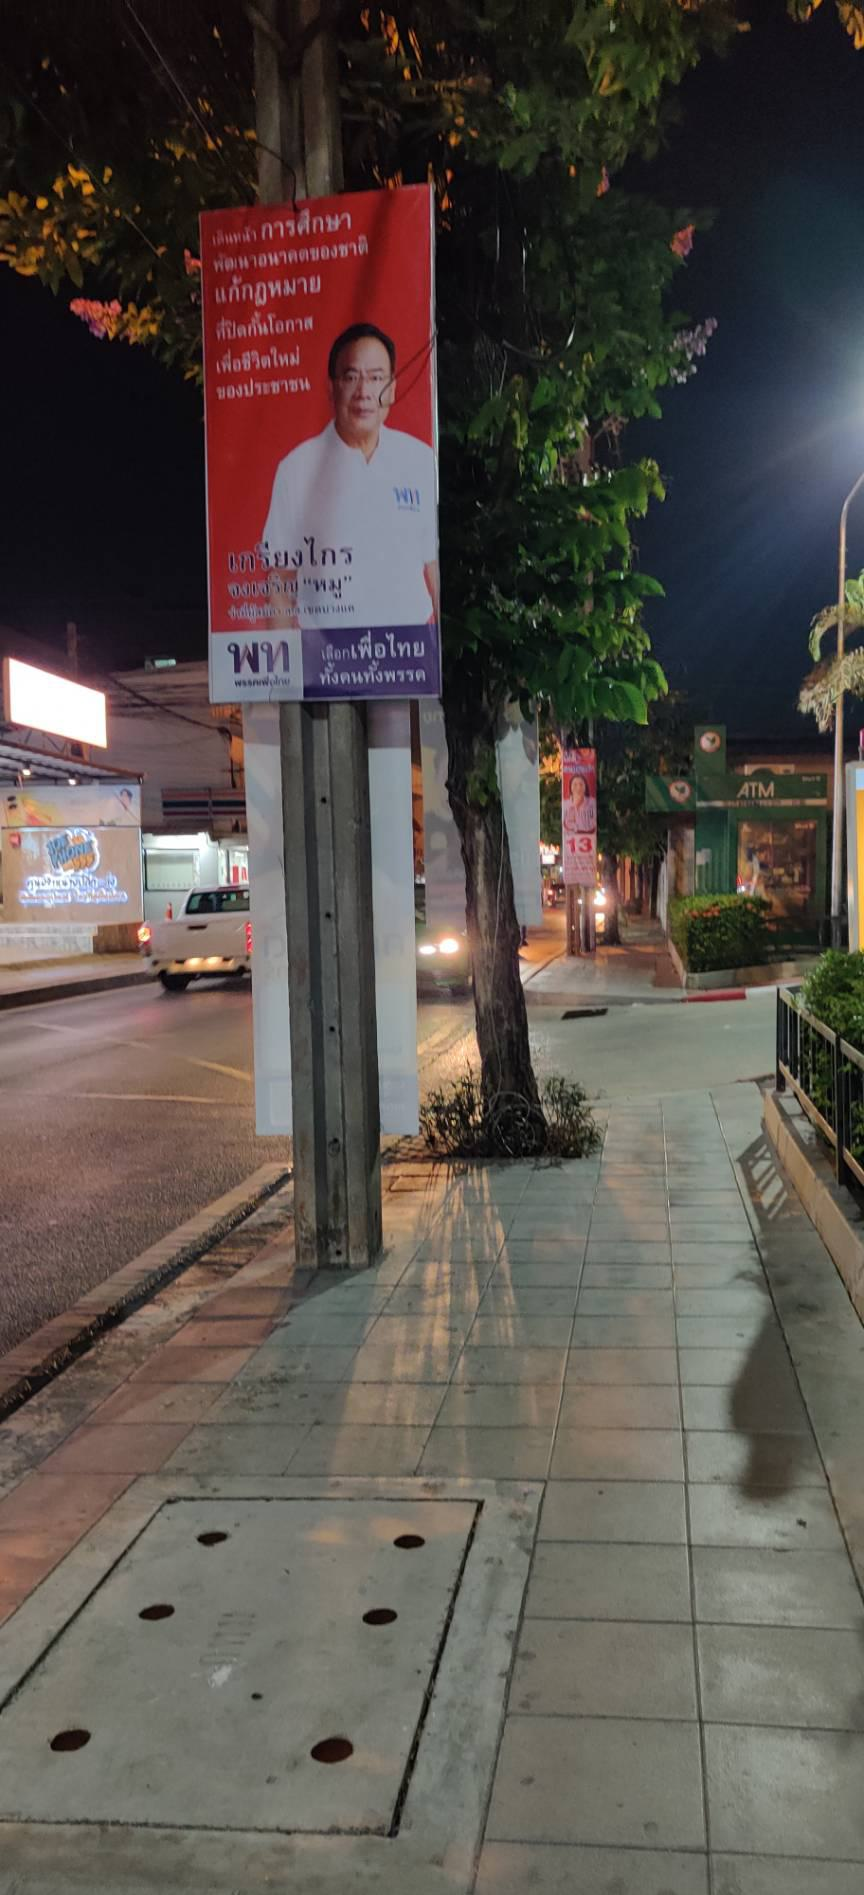Banner: (195, 205, 454, 705)
